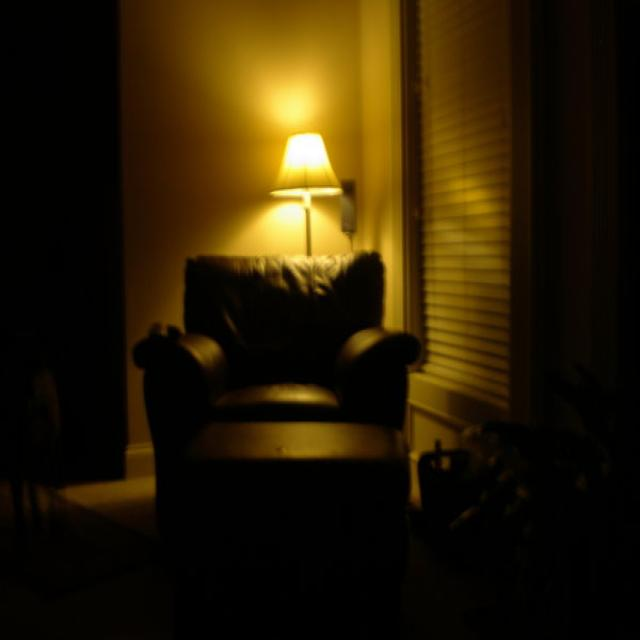chair: (134, 231, 421, 574)
dog: (0, 341, 85, 552)
